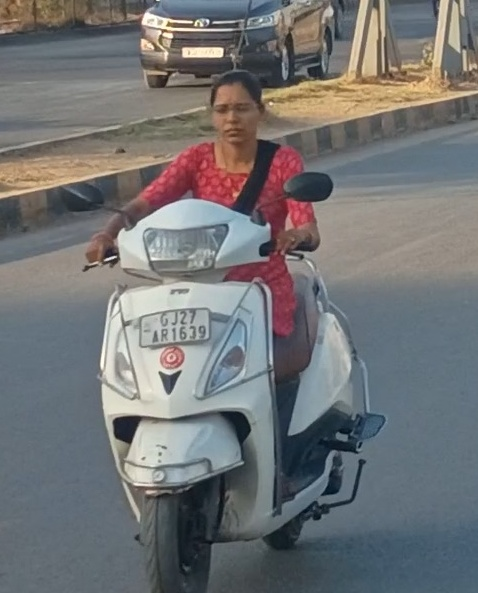BikeWithRider: (54, 68, 402, 593)
NoHelmet: (197, 68, 273, 156)
